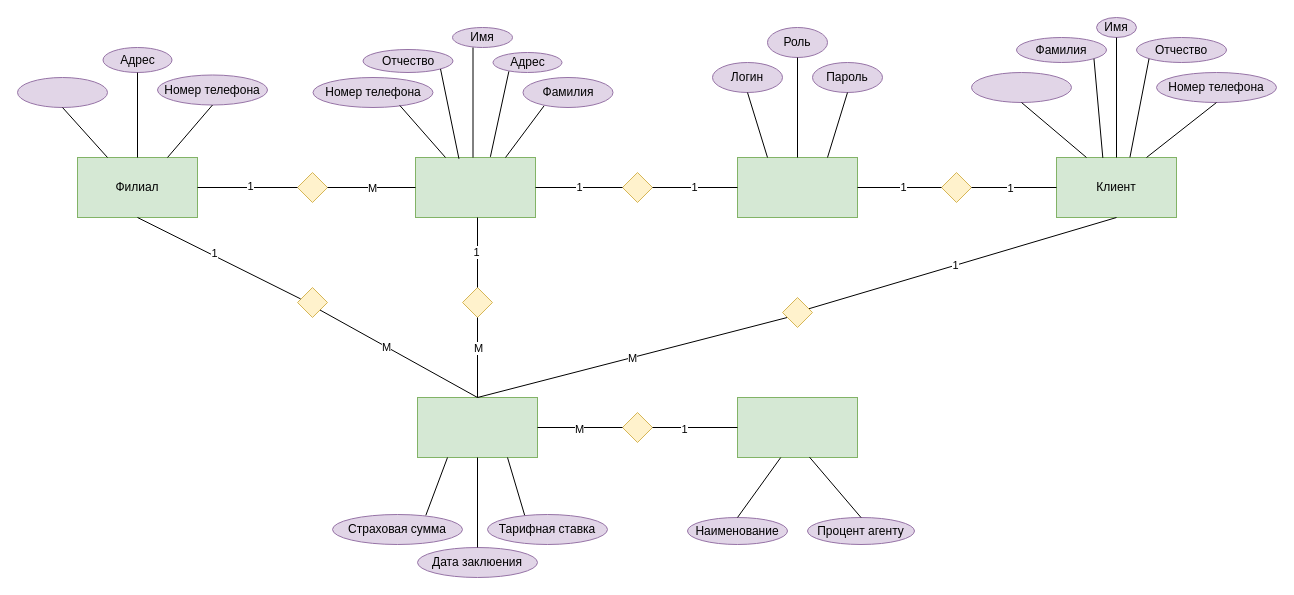
Image size: 1294x595. Some labels were removed from this diagram. The shapes that lost their labels are listed below. From the top down, each one's centre as x and y in pixels, then its label:
At point (62, 92): "Название".
At point (1021, 87): "Дата рождения".
At point (475, 187): "Страховой агент".
At point (797, 187): "Пользователь".
At point (477, 427): "Договор".
At point (797, 427): "Вид страхования".
